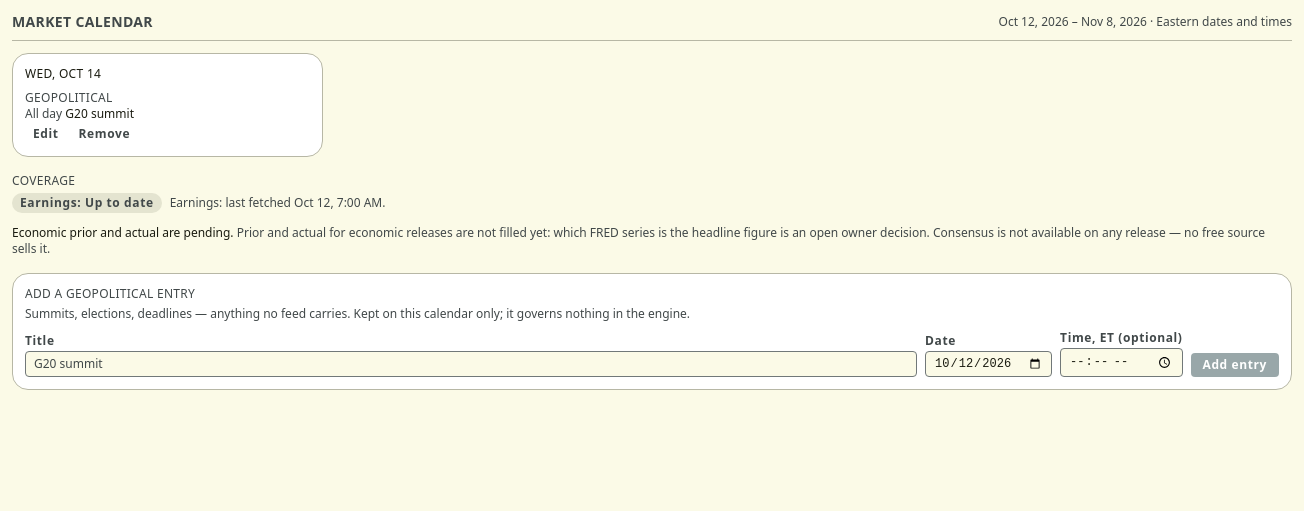
Test: the manual-entry form › renders a 409 as a row it cannot edit, naming its source
The image size is (1304, 511).
Click the button with aria-label "Edit G20 summit" at (46, 134), box [25,124,67,144]
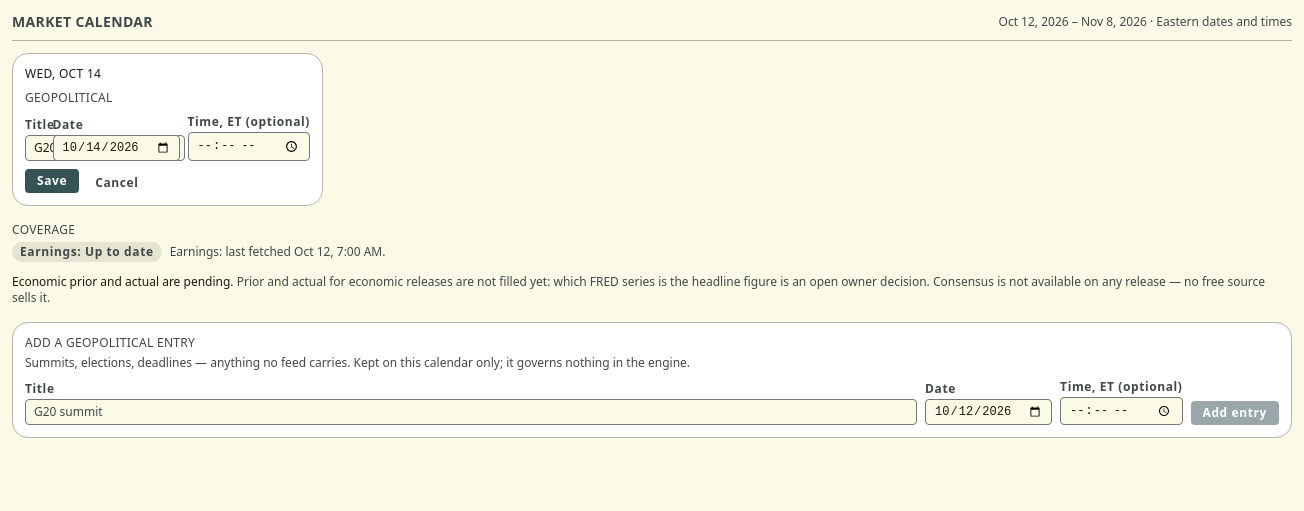
Click the button "Save" at (52, 181), box [25,169,79,193]
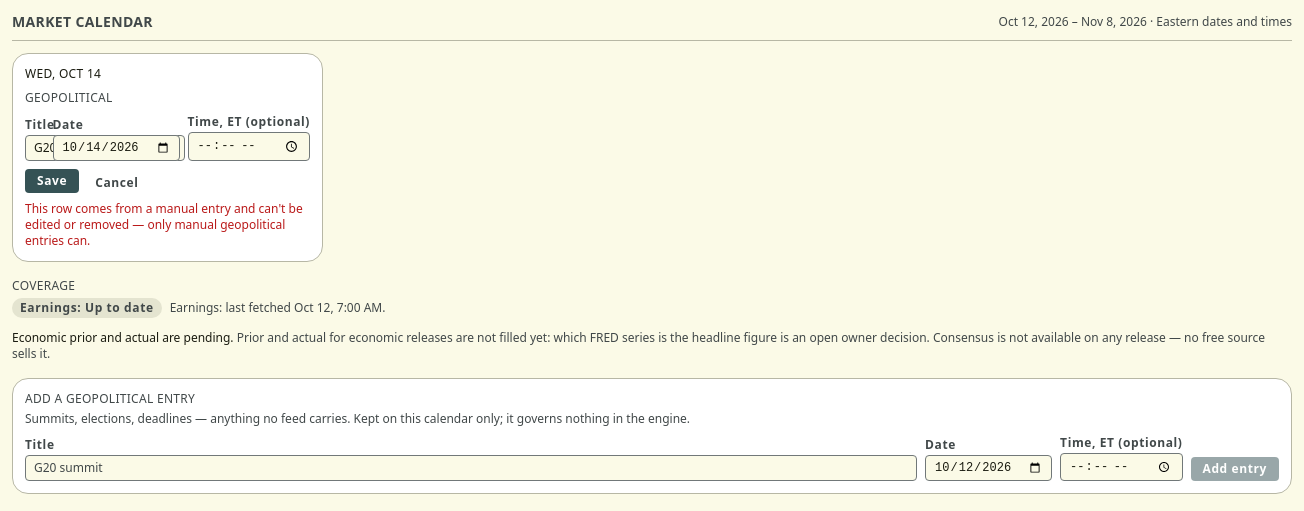
Expected: the message shows "This row comes from a manual entry and can't be edited", [25,200,303,249]
